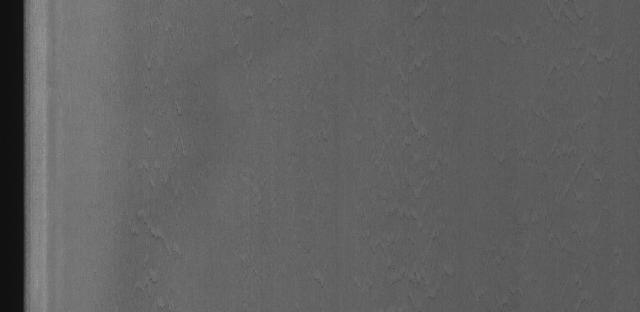silk_spot: (370, 27, 457, 267), (131, 42, 205, 270)
